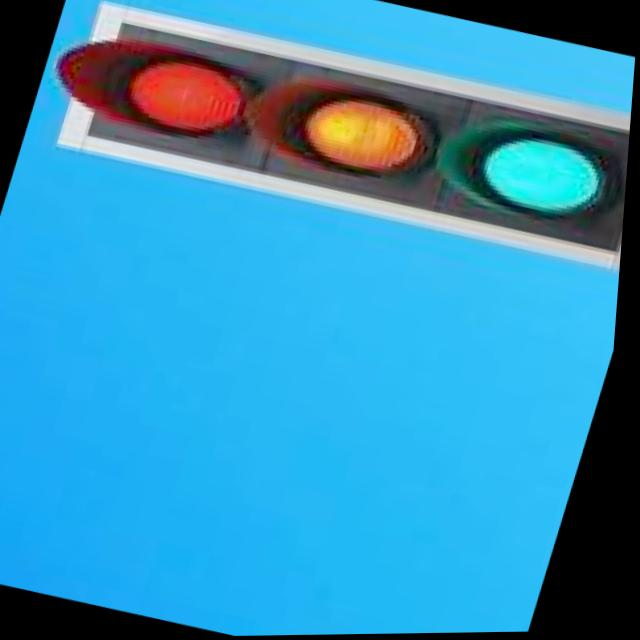green_light: (418, 68, 636, 338)
red_light: (91, 10, 283, 176)
yellow_light: (249, 20, 461, 246)
